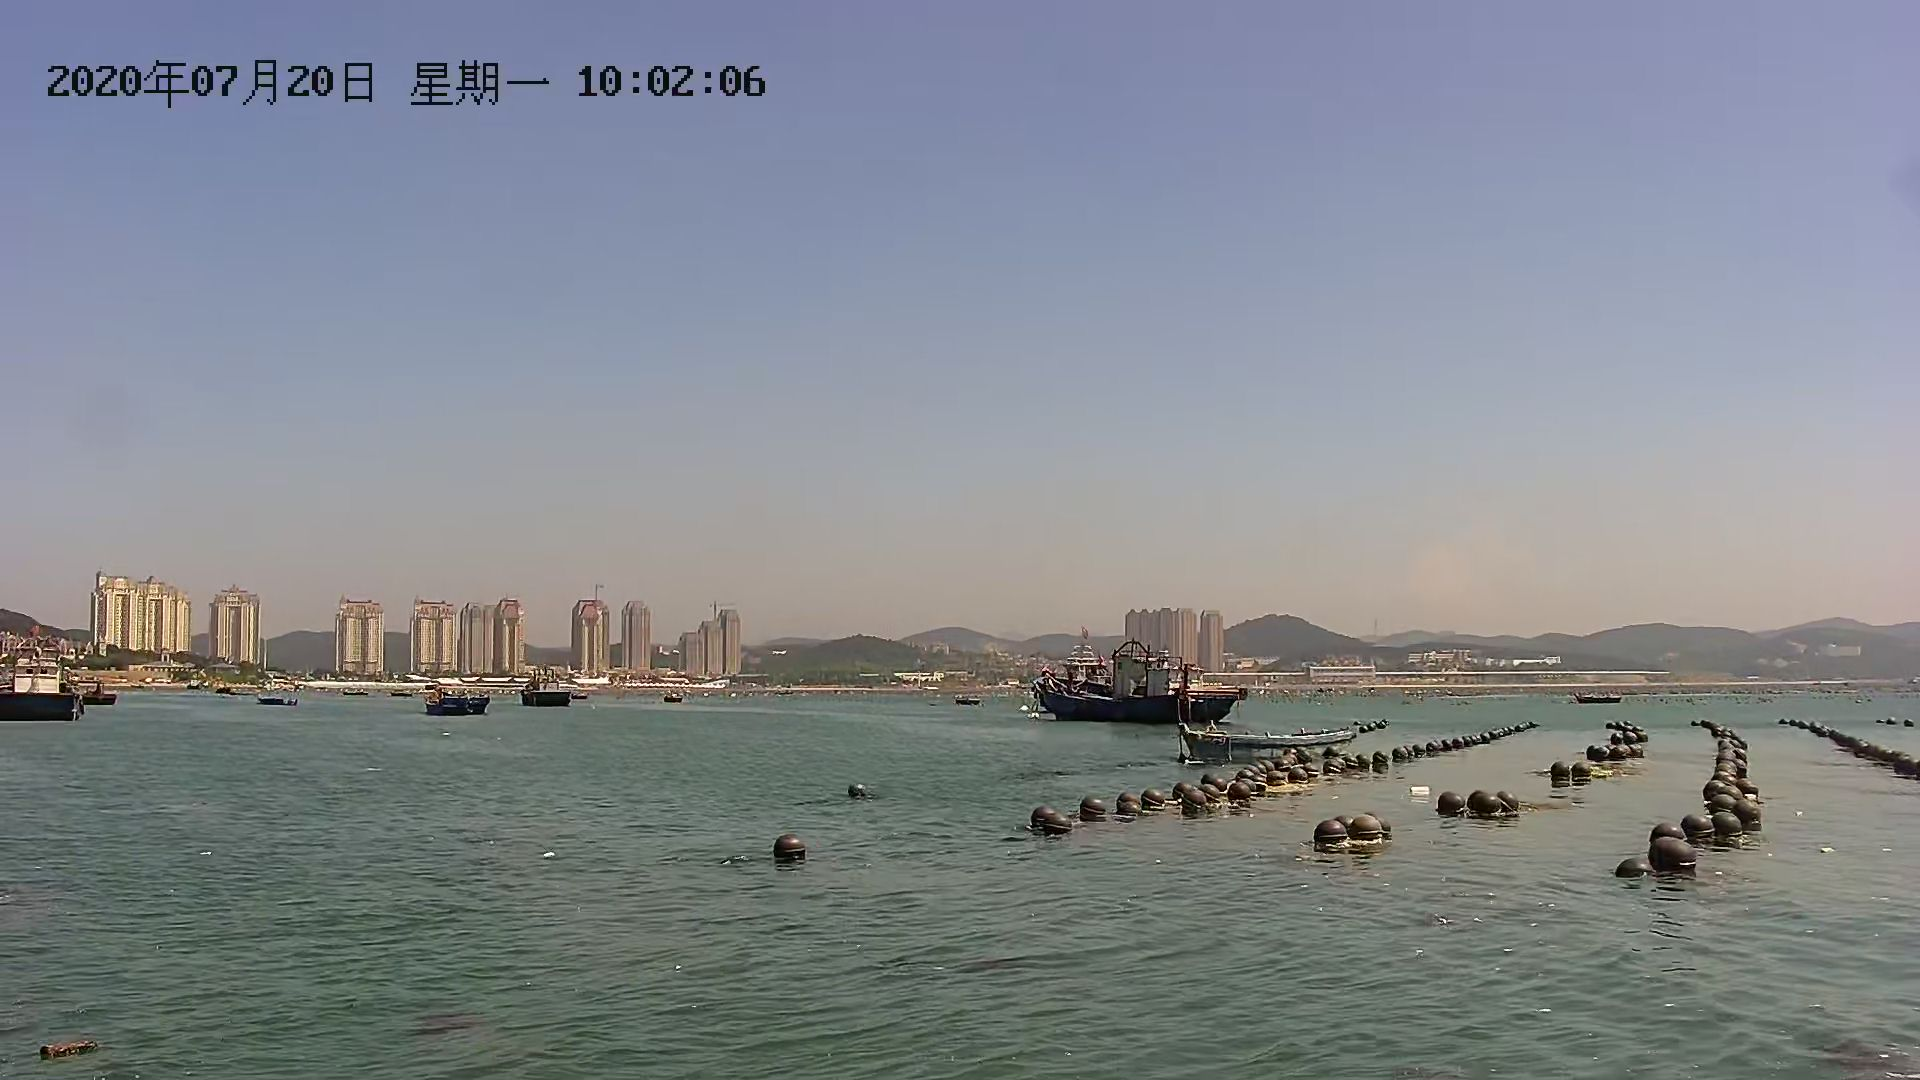ball: (1652, 833, 1701, 880), (837, 777, 887, 814), (1348, 810, 1389, 851), (1029, 806, 1076, 836), (767, 833, 804, 869), (1313, 816, 1348, 855), (1433, 789, 1468, 820), (1080, 791, 1109, 818)
boat: (1047, 641, 1238, 727), (1176, 715, 1354, 764), (1, 647, 96, 731), (418, 683, 492, 720), (522, 679, 578, 709)
